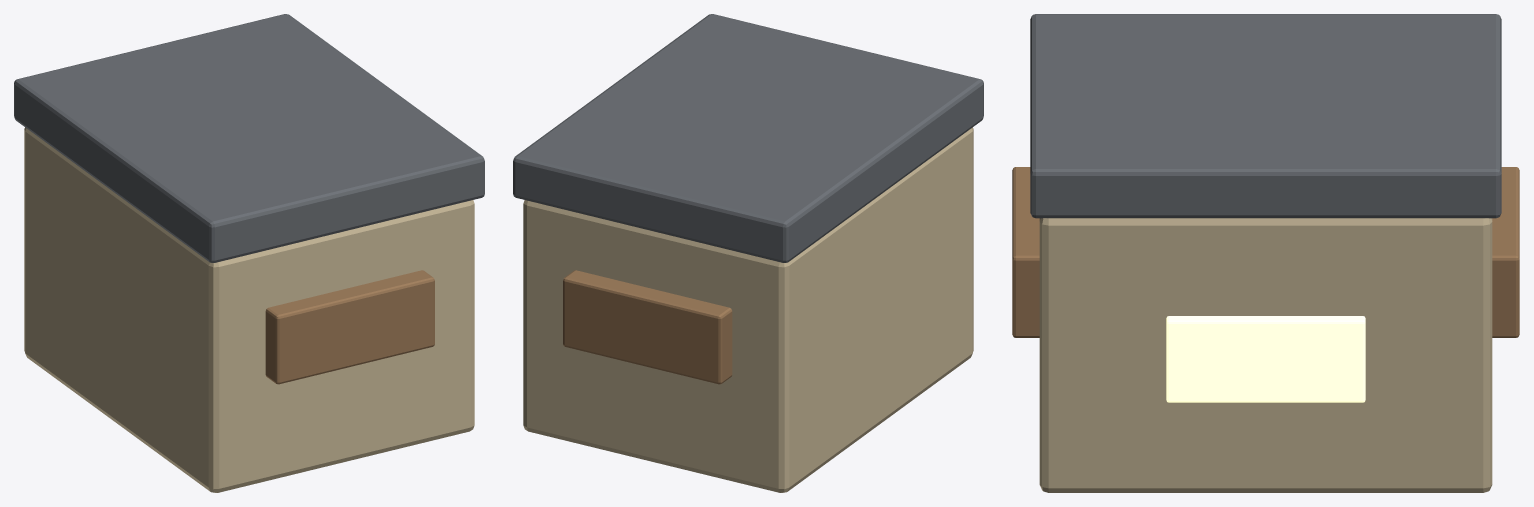
The model's file is prop_supply_box.fbx.
The picture shows the model from 3 angles, left to right: view 1: azimuth 30°, elevation 25°; view 2: azimuth 150°, elevation 25°; view 3: azimuth 270°, elevation 25°; orthographic projection. The views are drawn at different scales.
Parts seen in each view (by area): view 1: SM_Prop_SupplyBox; view 2: SM_Prop_SupplyBox; view 3: SM_Prop_SupplyBox.
Part boxes in pixels (left/top/right/bottom): SM_Prop_SupplyBox: left=14, top=14, right=484, bottom=492; SM_Prop_SupplyBox: left=513, top=14, right=983, bottom=492; SM_Prop_SupplyBox: left=1012, top=14, right=1519, bottom=492.
Size of what is drawn, in the model's own units: 42.3 by 40 by 56.
